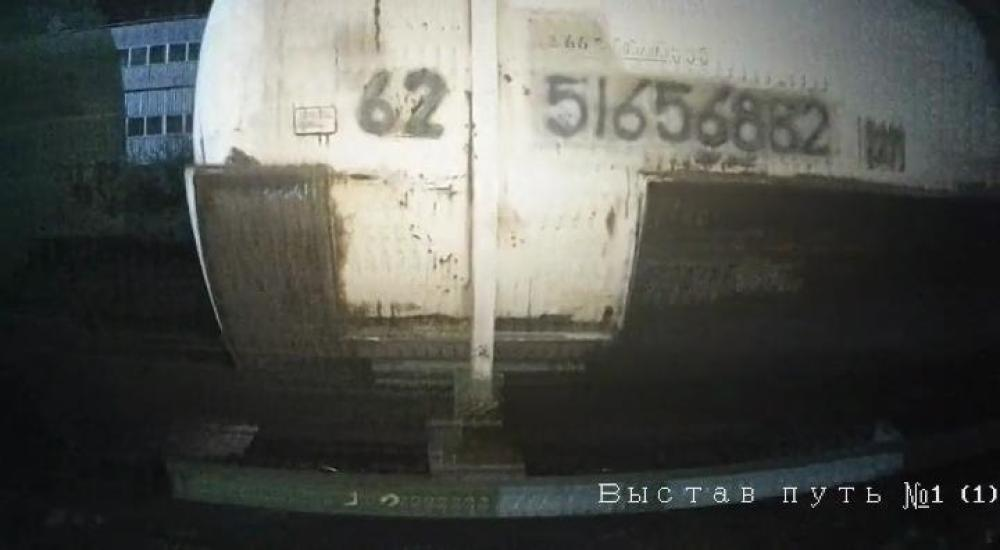Wagon-number: (541, 67, 838, 162)
